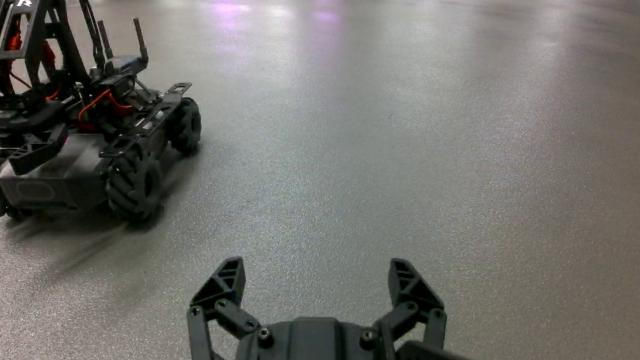robot: (0, 0, 204, 224)
